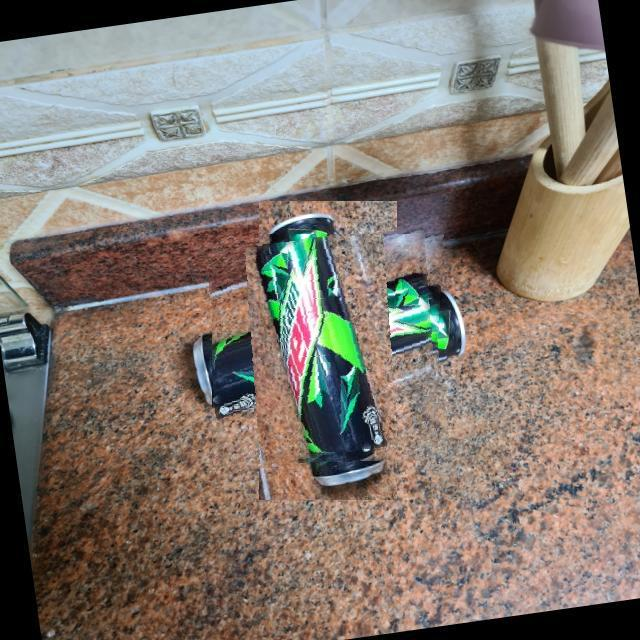recyclable: (212, 234, 444, 466)
